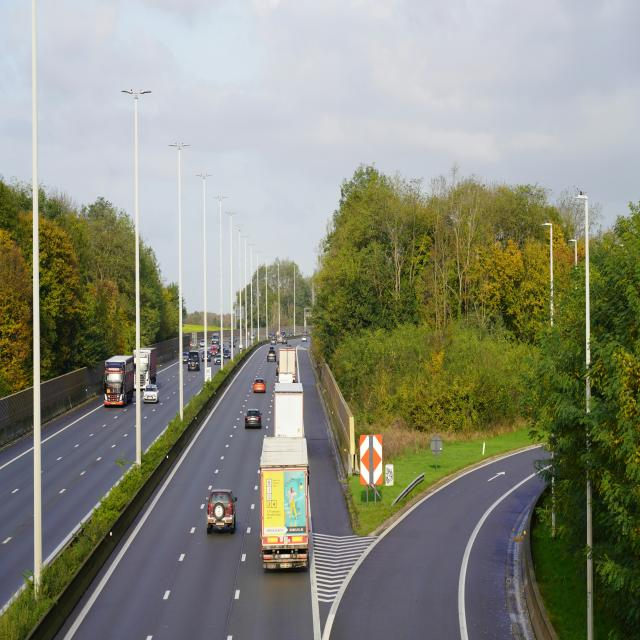Trucks: (260, 438, 309, 569), (271, 383, 305, 438), (104, 355, 135, 406), (135, 348, 156, 388), (277, 348, 296, 383), (286, 507, 302, 532)
